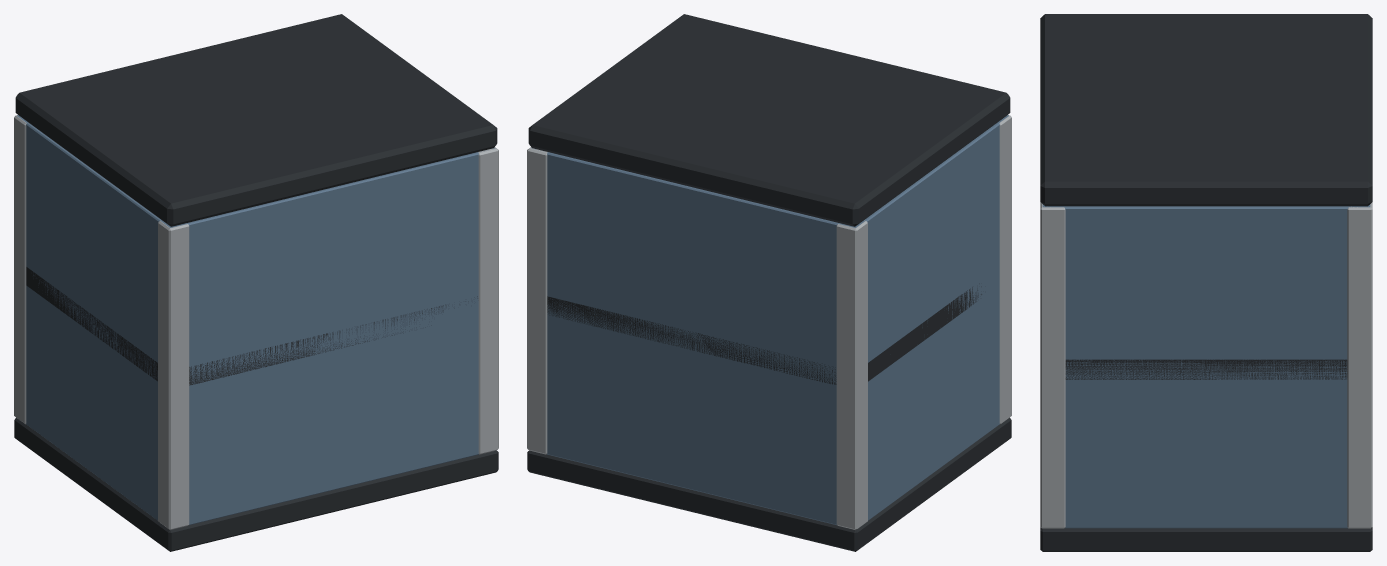
The model's file is SC_COVER_LOW.glb.
3 views of the same model, side by side, from view 1: azimuth 30°, elevation 25°; view 2: azimuth 150°, elevation 25°; view 3: azimuth 270°, elevation 25° (orthographic). The views are drawn at different scales.
Parts seen in each view (by area): view 1: SC_COVER_LOW; view 2: SC_COVER_LOW; view 3: SC_COVER_LOW.
Part boxes in pixels (bbox=[...]): SC_COVER_LOW: bbox=[14, 14, 498, 551]; SC_COVER_LOW: bbox=[527, 14, 1011, 551]; SC_COVER_LOW: bbox=[1040, 14, 1372, 551].
Bounding box in the file's own units: 1.25 × 1.25 × 1.02.
